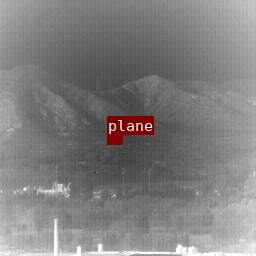plane: (107, 135, 122, 144)
